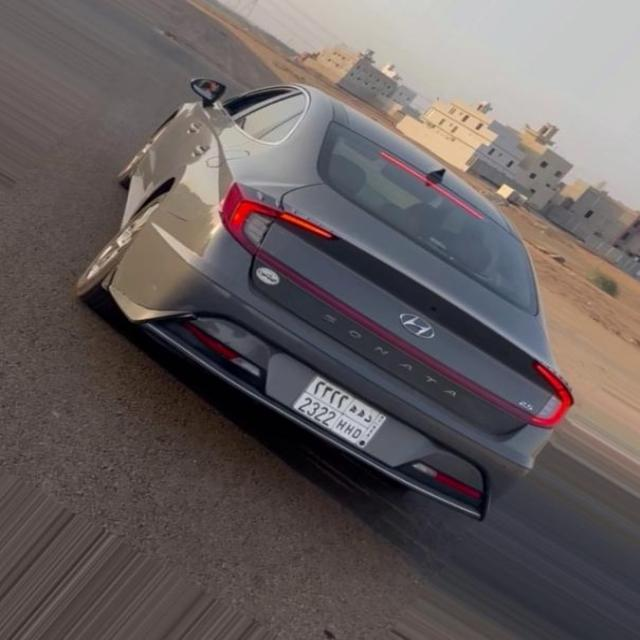Car-plate: (291, 354, 391, 462)
